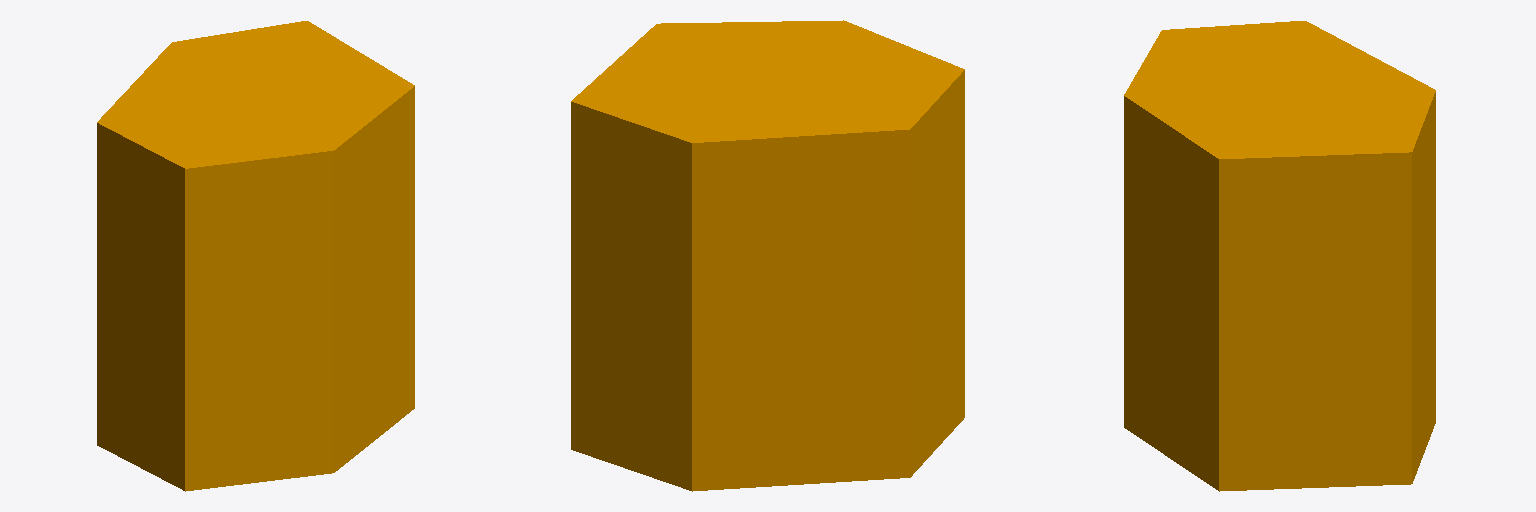
URDF robot description (object):
<?xml version="1.0"?>
<robot name="object">
  <link name="object">
    <visual>
      <origin xyz="0 0 0"/>
      <geometry>
        <mesh filename="meshes/generated/col_041.obj" scale="0.03 0.03 0.03"/>
      </geometry>
    </visual>
    <collision>
      <origin xyz="0 0 0"/>
      <geometry>
        <mesh filename="meshes/generated/col_041.obj" scale="0.03 0.03 0.03"/>
      </geometry>
    </collision>
    <inertial>
      <density value="1000.0"/>
    </inertial>
  </link>
</robot>

--- Facts derived from the render (not from the file) ---
Views: 3 orthographic renders of the robot side by side, from view 1: azimuth 30°, elevation 25°; view 2: azimuth 150°, elevation 25°; view 3: azimuth 270°, elevation 25°.
Robot: object — 1 links, 0 joints (none); root link object; default pose: every joint at zero.
Links seen in each view (by area): view 1: object; view 2: object; view 3: object.
Boxes of the visible links, x1,y1,x2,y2 form: object: (97,21,414,491); object: (571,20,964,491); object: (1124,21,1435,491).
Size in the robot's own frame: 0.0538 by 0.0511 by 0.06 metres.
1 mesh visuals loaded from 1 distinct referenced files (1 OBJ).
